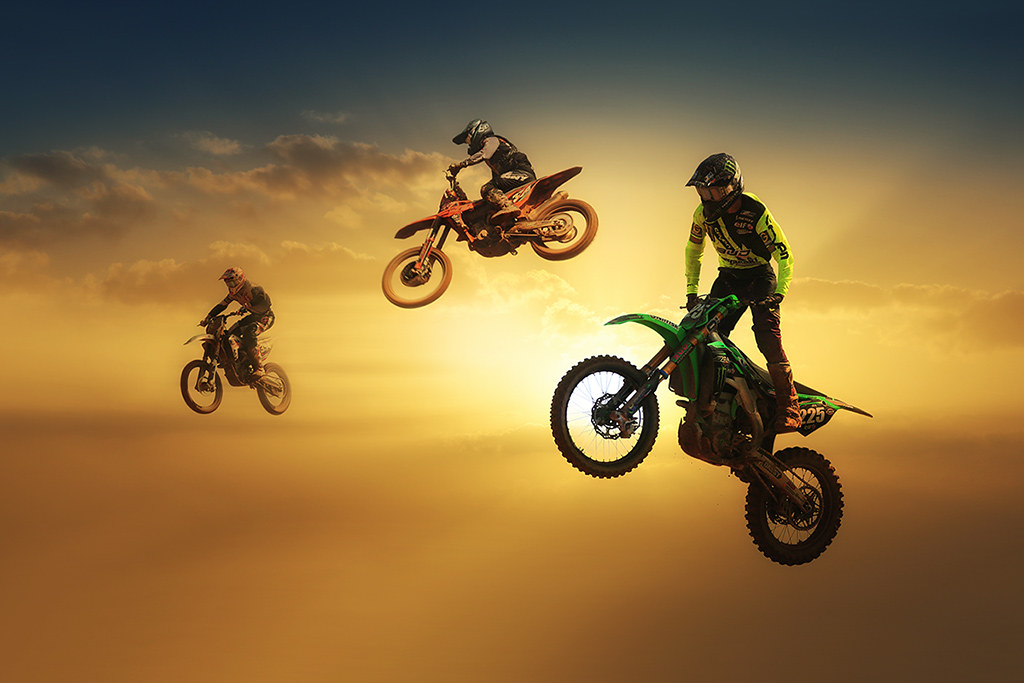motor bike: (554, 294, 878, 577), (365, 168, 616, 311), (176, 315, 307, 431)
person: (669, 157, 860, 413), (202, 269, 303, 388), (441, 117, 544, 231)
